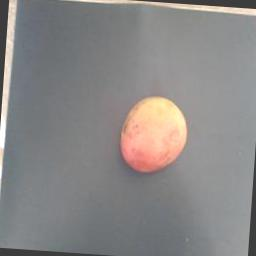Mango Unripe: (103, 74, 196, 179)
